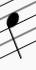note: (4, 1, 24, 60)
